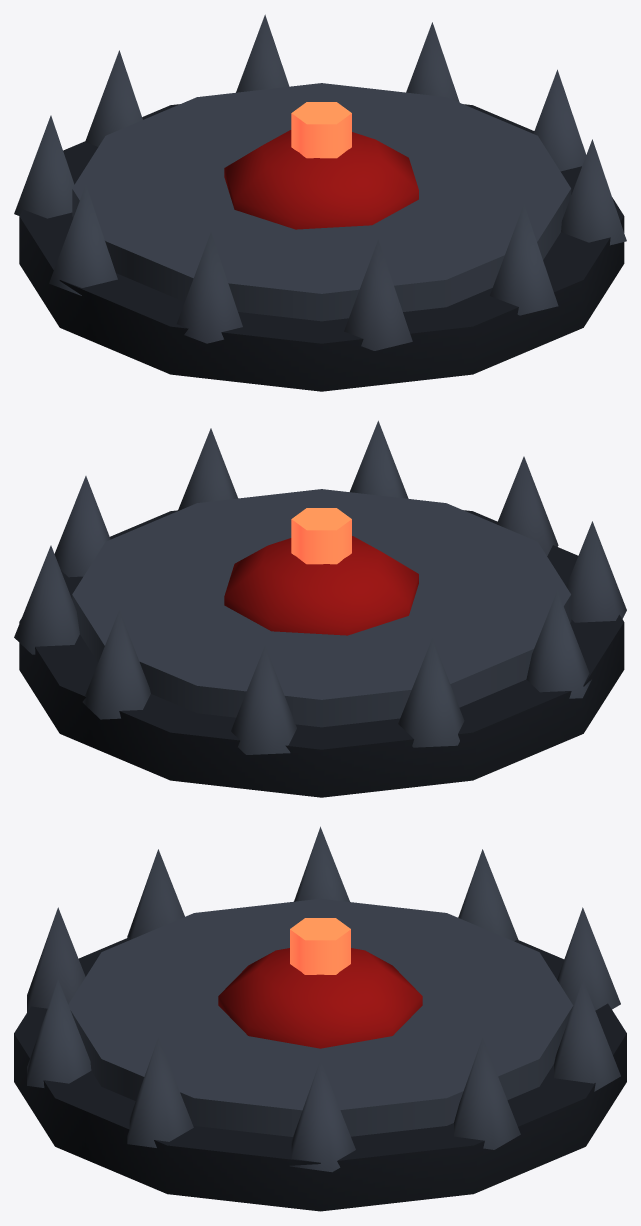
The model's file is b_bomb.glb.
The picture shows the model from 3 angles, top to bottom: view 1: azimuth 30°, elevation 25°; view 2: azimuth 150°, elevation 25°; view 3: azimuth 270°, elevation 25°; orthographic projection.
Parts seen in each view (by area): view 1: bomb_t1_body; view 2: bomb_t1_body; view 3: bomb_t1_body.
Boxes of the visible parts, x1,y1,x2,y2 form: bomb_t1_body: [14, 14, 626, 391]; bomb_t1_body: [14, 420, 626, 797]; bomb_t1_body: [14, 826, 626, 1211].
Bounding box in the file's own units: 0.8151 × 0.22 × 0.8.
